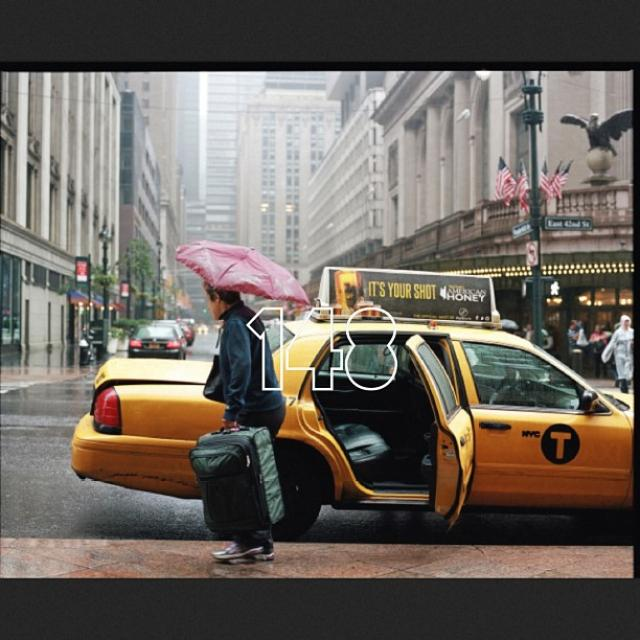Vehicle: (71, 325, 635, 539), (128, 324, 188, 358), (173, 322, 195, 346)
